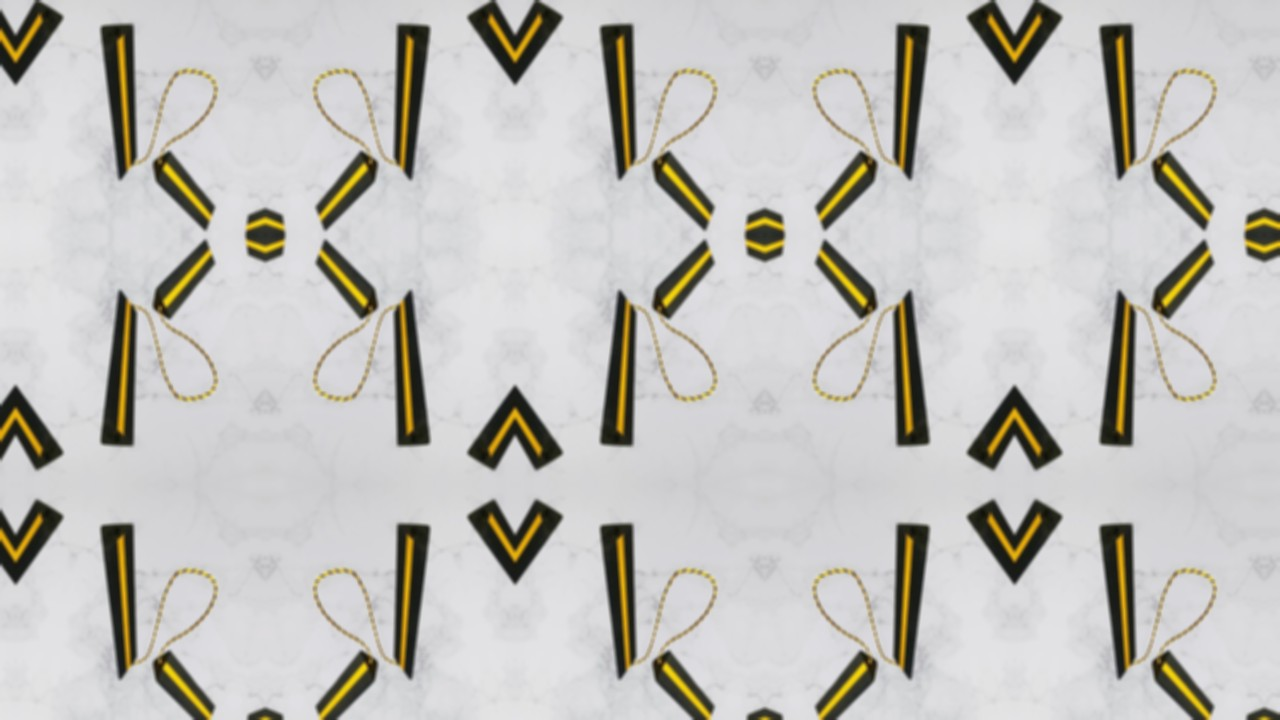chock: (63, 14, 168, 185), (362, 14, 467, 185), (563, 14, 668, 185), (862, 14, 967, 185), (1063, 14, 1168, 185), (63, 285, 168, 456), (362, 285, 467, 456), (563, 285, 668, 456), (862, 285, 967, 456), (1063, 285, 1168, 456), (63, 514, 168, 685), (362, 514, 467, 685), (563, 514, 668, 685), (862, 514, 967, 685), (1063, 514, 1168, 685), (15, 310, 68, 482), (462, 310, 515, 482), (515, 310, 568, 482), (962, 310, 1015, 482), (1015, 310, 1068, 482), (15, 488, 68, 660), (462, 488, 515, 660), (515, 488, 568, 660), (962, 488, 1015, 660), (1015, 488, 1068, 660), (15, 0, 68, 160), (462, 0, 515, 160), (515, 0, 568, 160), (962, 0, 1015, 160), (1015, 0, 1068, 160), (139, 147, 226, 233), (304, 147, 391, 233), (639, 147, 726, 233), (804, 147, 891, 233), (1139, 147, 1226, 233), (139, 237, 226, 323), (304, 237, 391, 323), (639, 237, 726, 323), (804, 237, 891, 323), (1139, 237, 1226, 323), (139, 647, 226, 720), (304, 647, 391, 720), (639, 647, 726, 720), (804, 647, 891, 720), (1139, 647, 1226, 720), (0, 310, 15, 482), (0, 488, 15, 660), (0, 0, 15, 160)
